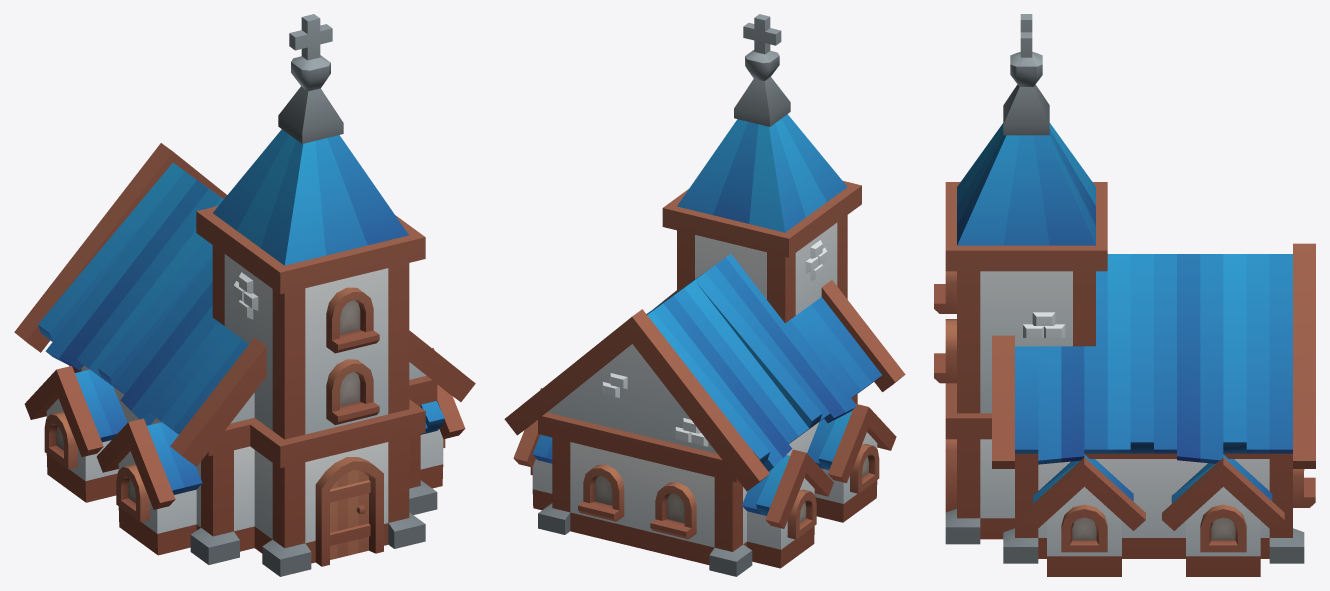
The model's file is library.glb.
The picture shows the model from 3 angles, left to right: view 1: azimuth 30°, elevation 25°; view 2: azimuth 150°, elevation 25°; view 3: azimuth 270°, elevation 25°; orthographic projection. The views are drawn at different scales.
Visible parts, largest first — view 1: building_church_blue; view 2: building_church_blue; view 3: building_church_blue.
Boxes of the visible parts, x1=… form: building_church_blue: x1=14, y1=14, x2=475, y2=576; building_church_blue: x1=504, y1=14, x2=905, y2=576; building_church_blue: x1=934, y1=14, x2=1315, y2=576.
Size of the model in its own units: 1.03 by 1.65 by 1.15.
Materials: 1 (1 with a texture image).
